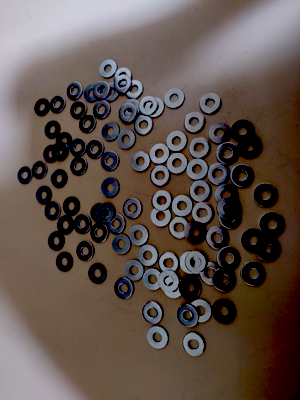circle: (260, 212, 286, 237), (212, 299, 237, 324), (200, 261, 224, 286), (242, 262, 266, 287), (256, 237, 281, 261), (217, 247, 241, 271), (254, 183, 278, 207), (206, 226, 230, 250), (183, 332, 206, 356), (213, 269, 237, 292), (184, 222, 208, 245), (219, 206, 243, 229), (215, 184, 240, 206), (217, 198, 242, 220), (179, 276, 202, 299), (190, 300, 213, 323), (231, 164, 254, 187), (242, 229, 265, 252), (186, 251, 208, 275), (239, 136, 263, 158), (148, 327, 170, 350), (180, 252, 203, 274), (190, 180, 212, 203), (232, 120, 255, 142), (217, 143, 239, 165), (208, 163, 230, 185), (178, 304, 199, 327), (151, 205, 172, 228), (169, 217, 190, 240), (187, 159, 210, 180), (209, 122, 232, 143), (143, 302, 164, 324), (159, 270, 180, 292), (143, 269, 164, 291), (200, 93, 222, 114), (184, 112, 206, 133), (150, 165, 171, 187), (172, 195, 193, 217), (193, 202, 214, 224), (167, 153, 189, 174), (190, 137, 211, 159), (106, 214, 127, 235), (159, 252, 180, 273), (167, 131, 188, 152), (114, 278, 134, 300), (152, 190, 172, 212), (139, 245, 159, 266), (112, 234, 132, 255), (123, 198, 143, 219), (101, 177, 121, 198), (145, 97, 165, 118), (165, 88, 185, 109), (125, 260, 144, 282), (130, 224, 149, 246), (164, 277, 183, 299), (150, 144, 170, 164), (131, 152, 151, 172), (76, 241, 95, 262), (88, 263, 107, 284), (97, 202, 116, 223), (91, 202, 110, 223), (117, 129, 136, 150), (135, 114, 153, 136), (101, 151, 120, 171), (102, 121, 121, 141), (102, 83, 121, 103), (139, 96, 158, 116), (125, 80, 144, 99), (56, 252, 74, 272), (74, 214, 92, 234), (91, 223, 109, 243), (114, 67, 132, 87), (70, 157, 88, 176), (57, 216, 75, 235), (87, 140, 105, 159), (114, 75, 132, 94), (119, 104, 137, 123), (123, 99, 141, 118), (63, 197, 80, 217), (94, 100, 111, 120), (70, 101, 87, 120), (79, 114, 96, 133), (70, 138, 87, 157), (48, 232, 65, 251), (84, 84, 101, 103), (100, 60, 117, 79), (52, 143, 69, 161), (51, 170, 68, 188), (34, 99, 50, 118), (45, 202, 61, 221), (94, 81, 110, 100), (66, 83, 83, 100), (45, 121, 61, 139), (50, 96, 66, 114), (37, 186, 52, 205), (56, 133, 72, 150), (18, 167, 33, 185), (32, 162, 47, 180), (43, 145, 58, 163)
